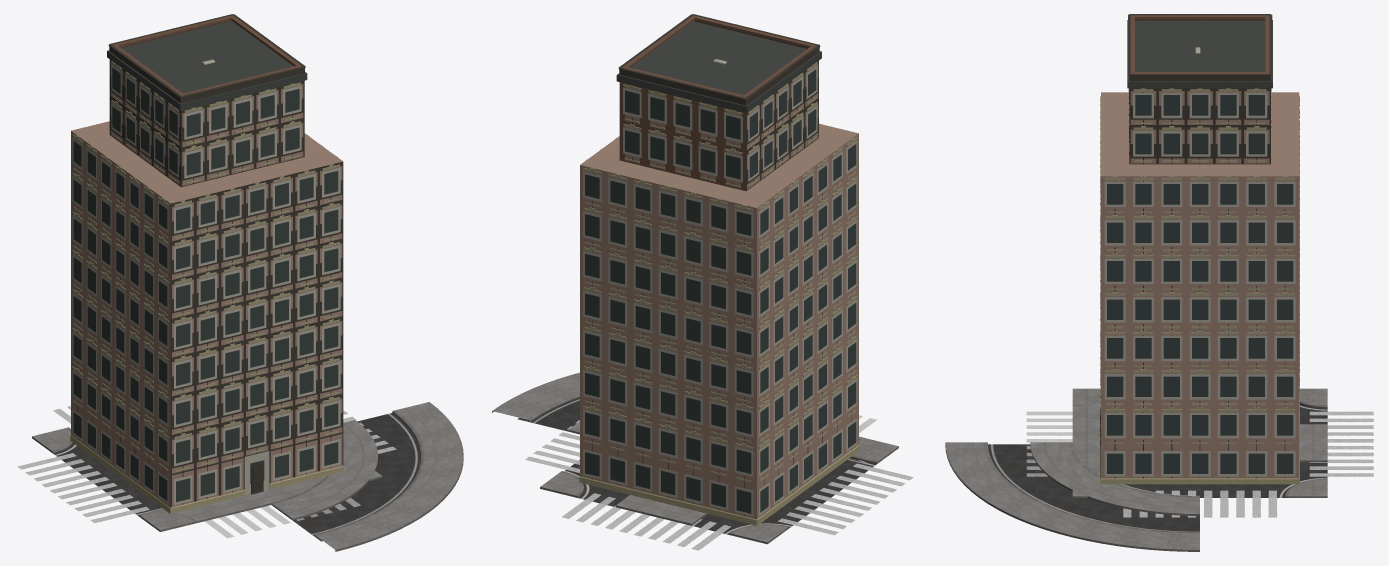
The model's file is downtown.glb.
The picture shows the model from 3 angles, left to right: view 1: azimuth 30°, elevation 25°; view 2: azimuth 150°, elevation 25°; view 3: azimuth 270°, elevation 25°; orthographic projection. The views are drawn at different scales.
Visible parts, largest first — view 1: Building_5_0_far, Building_5_1_near, Building_5_0_near, Street_Curve_4LaneShort.001, Street_TIntersection.001, Street_4WayIntersection.001, Street_Curve_2Lane.001, Street_4Lane.001; view 2: Building_5_0_far, Building_5_0_near, Street_TIntersection.001, Street_4WayIntersection.001, Building_5_1_near, Street_Curve_4LaneShort.001, Street_4Lane.001; view 3: Building_5_0_far, Street_Curve_4LaneShort.001, Building_5_0_near, Street_4WayIntersection.001, Building_5_1_near, Street_TIntersection.001, Street_Curve_2Lane.001, Street_4Lane.001.
Boxes of the visible parts, left/top/right/bottom form: Building_5_0_far: left=71, top=21, right=342, bottom=507; Building_5_1_near: left=70, top=14, right=343, bottom=513; Building_5_0_near: left=72, top=15, right=339, bottom=494; Street_Curve_4LaneShort.001: left=271, top=402, right=463, bottom=551; Street_TIntersection.001: left=17, top=406, right=396, bottom=531; Street_4WayIntersection.001: left=19, top=406, right=395, bottom=538; Street_Curve_2Lane.001: left=272, top=420, right=377, bottom=520; Street_4Lane.001: left=221, top=484, right=304, bottom=513; Building_5_0_far: left=580, top=21, right=858, bottom=519; Building_5_0_near: left=583, top=15, right=857, bottom=482; Street_TIntersection.001: left=525, top=420, right=913, bottom=549; Street_4WayIntersection.001: left=526, top=415, right=912, bottom=550; Building_5_1_near: left=579, top=14, right=859, bottom=525; Street_Curve_4LaneShort.001: left=492, top=372, right=579, bottom=434; Street_4Lane.001: left=616, top=495, right=707, bottom=525; Building_5_0_far: left=1101, top=20, right=1299, bottom=478; Street_Curve_4LaneShort.001: left=945, top=442, right=1199, bottom=551; Building_5_0_near: left=1099, top=15, right=1299, bottom=444; Street_4WayIntersection.001: left=1026, top=388, right=1373, bottom=517; Building_5_1_near: left=1100, top=14, right=1299, bottom=484; Street_TIntersection.001: left=1072, top=388, right=1373, bottom=517; Street_Curve_2Lane.001: left=1030, top=442, right=1199, bottom=515; Street_4Lane.001: left=1072, top=424, right=1327, bottom=462.
Bounding box in the file's own units: 30.33 × 31.15 × 30.33.
Materials: 14 (7 with a texture image).
